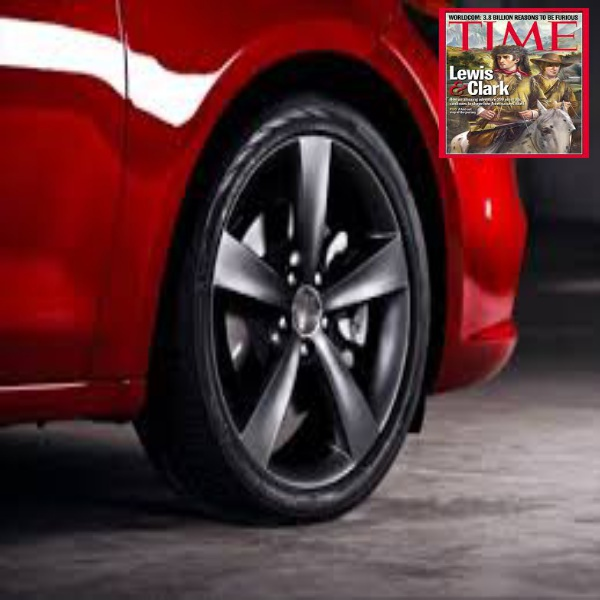time_cover: (442, 6, 590, 162)
